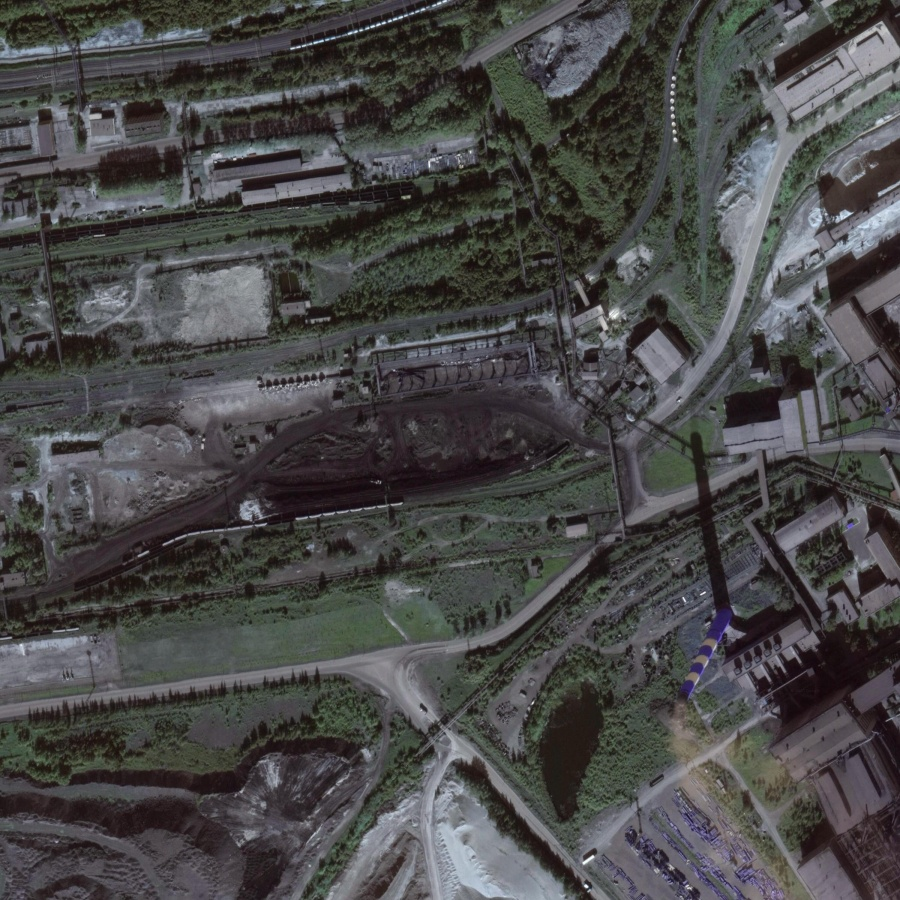PowerPlant: (138, 368, 578, 532)
